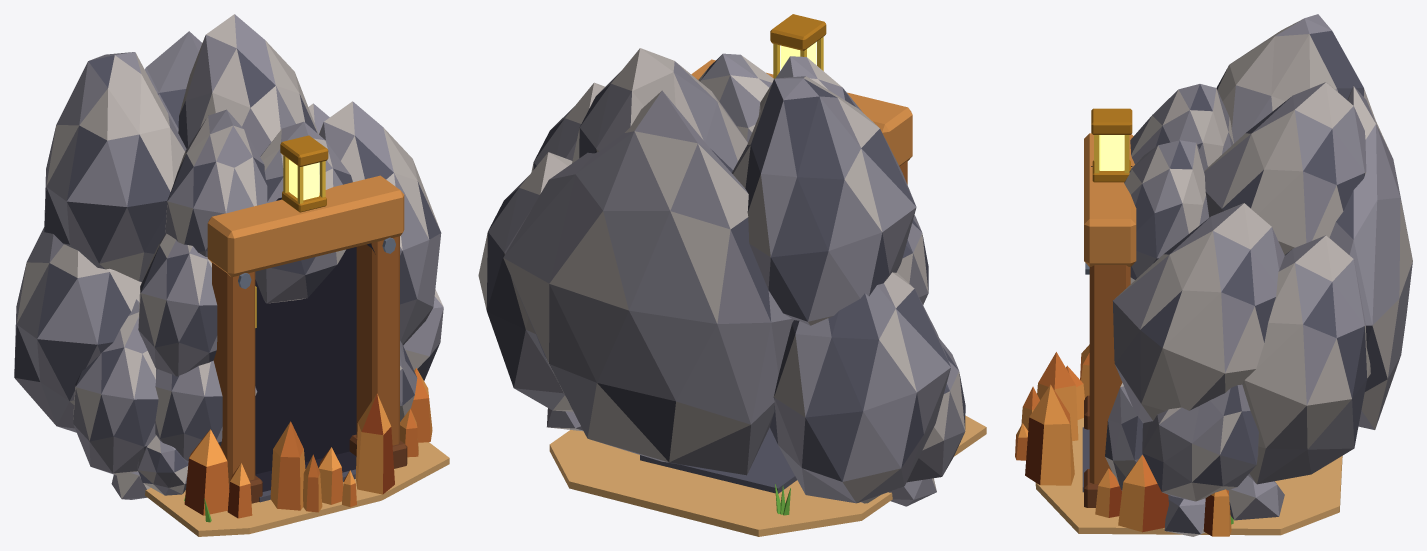
File: CopperMine.fbx
3 views of the same model, side by side, from view 1: azimuth 30°, elevation 25°; view 2: azimuth 150°, elevation 25°; view 3: azimuth 270°, elevation 25° (orthographic). The views are drawn at different scales.
Visible parts, largest first — view 1: MineRock_Back_Left.001, Mine_ArchedOpening, MineRock_Back_Left, Mine_TimberLintel, MineRock_Back_Right.001, MineRock_Back_Right.002, MineRock_Side_Left, MineRock_Side_Left.002, MineRock_Side_Left.004, Mine_TimberPost_R, Mine_TimberPost_L, Mine_DirtPatch (+19 smaller); view 2: MineRock_Back_Crown, MineRock_Back_Left.001, MineRock_Back_Left, Mine_DirtPatch, MineRock_Back_Right, MineRock_Back_Right.001, MineRock_Side_Left.003, MineRock_Side_Left, Mine_InteriorFloor, Mine_TimberLintel, MineRock_Back_Right.002, MineRock_Side_Left.002 (+4 smaller); view 3: MineRock_Back_Right.002, MineRock_Back_Right, MineRock_Back_Right.001, MineRock_Back_Crown, MineRock_Side_Right, MineRock_Back_Left.001, MineRock_Side_Left.003, Mine_DirtPatch, Mine_TimberPost_R, MineRock_Side_Left.004, Mine_TimberLintel, Mineable_Crystal_02_Facets (+9 smaller).
Part boxes in pixels (x1,y1,x2,y2): MineRock_Back_Left.001: [44, 52, 186, 281]; Mine_ArchedOpening: [255, 197, 375, 491]; MineRock_Back_Left: [14, 227, 141, 432]; Mine_TimberLintel: [207, 175, 404, 277]; MineRock_Back_Right.001: [178, 14, 318, 156]; MineRock_Back_Right.002: [319, 101, 441, 345]; MineRock_Side_Left: [73, 299, 158, 475]; MineRock_Side_Left.002: [138, 233, 217, 376]; MineRock_Side_Left.004: [165, 109, 267, 256]; Mine_TimberPost_R: [356, 236, 399, 445]; Mine_TimberPost_L: [212, 262, 255, 483]; Mine_DirtPatch: [145, 442, 449, 536]; MineRock_Back_Crown: [503, 90, 793, 475]; MineRock_Back_Left.001: [732, 76, 916, 325]; MineRock_Back_Left: [770, 272, 950, 503]; Mine_DirtPatch: [549, 415, 986, 536]; MineRock_Back_Right: [478, 152, 573, 411]; MineRock_Back_Right.001: [572, 48, 747, 172]; MineRock_Side_Left.003: [698, 53, 773, 142]; MineRock_Side_Left: [907, 338, 965, 482]; Mine_InteriorFloor: [640, 427, 796, 493]; Mine_TimberLintel: [691, 59, 912, 166]; MineRock_Back_Right.002: [531, 82, 604, 172]; MineRock_Side_Left.002: [897, 215, 928, 304]; MineRock_Back_Right.002: [1112, 203, 1284, 422]; MineRock_Back_Right: [1242, 235, 1370, 484]; MineRock_Back_Right.001: [1204, 82, 1366, 254]; MineRock_Back_Crown: [1329, 86, 1412, 429]; MineRock_Side_Right: [1142, 384, 1258, 501]; MineRock_Back_Left.001: [1216, 14, 1374, 143]; MineRock_Side_Left.003: [1124, 140, 1209, 283]; Mine_DirtPatch: [1035, 418, 1342, 535]; Mine_TimberPost_R: [1089, 265, 1130, 484]; MineRock_Side_Left.004: [1130, 84, 1233, 166]; Mine_TimberLintel: [1084, 133, 1136, 266]; Mineable_Crystal_02_Facets: [1025, 384, 1074, 485].
Bounding box in the file's own units: 2.73 × 2.74 × 2.37.
